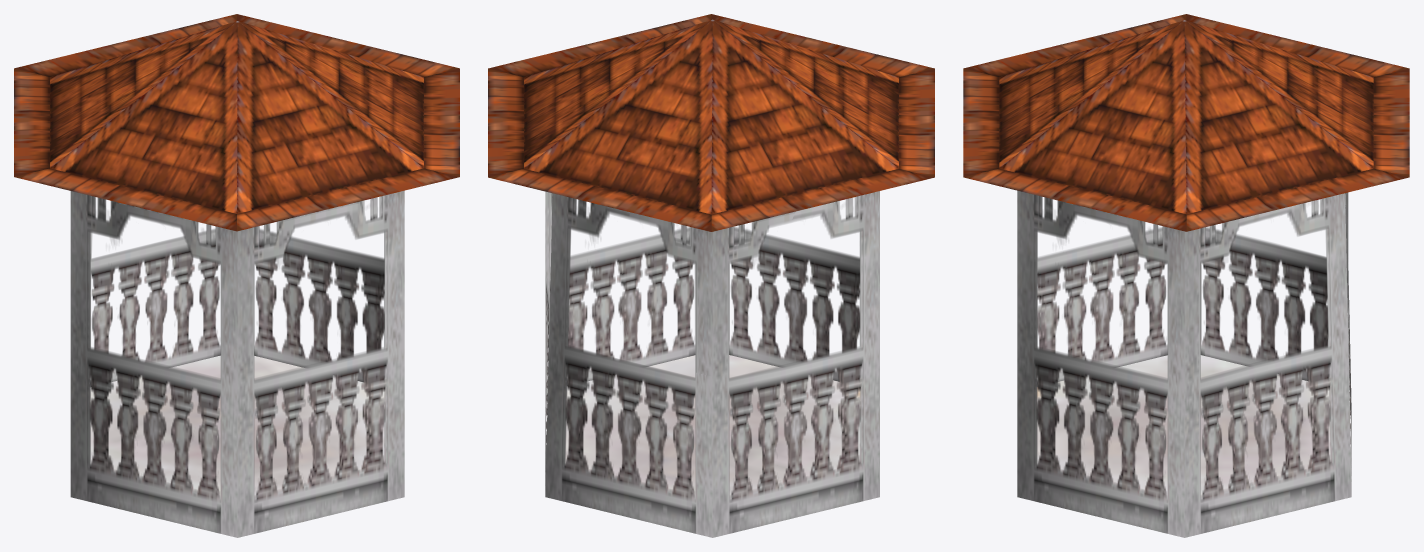
File: Environment - Prop - Park Gazebo - PMGazebo.glb
3 views of the same model, side by side, from view 1: azimuth 30°, elevation 25°; view 2: azimuth 150°, elevation 25°; view 3: azimuth 270°, elevation 25° (orthographic).
Parts seen in each view (by area): view 1: PMGAZEBO; view 2: PMGAZEBO; view 3: PMGAZEBO.
Boxes of the visible parts, x1,y1,x2,y2 form: PMGAZEBO: [14, 14, 459, 537]; PMGAZEBO: [488, 14, 934, 537]; PMGAZEBO: [963, 14, 1409, 537].
Bounding box in the file's own units: 20.74 × 19.37 × 17.96.
1 material, 1 textured.
